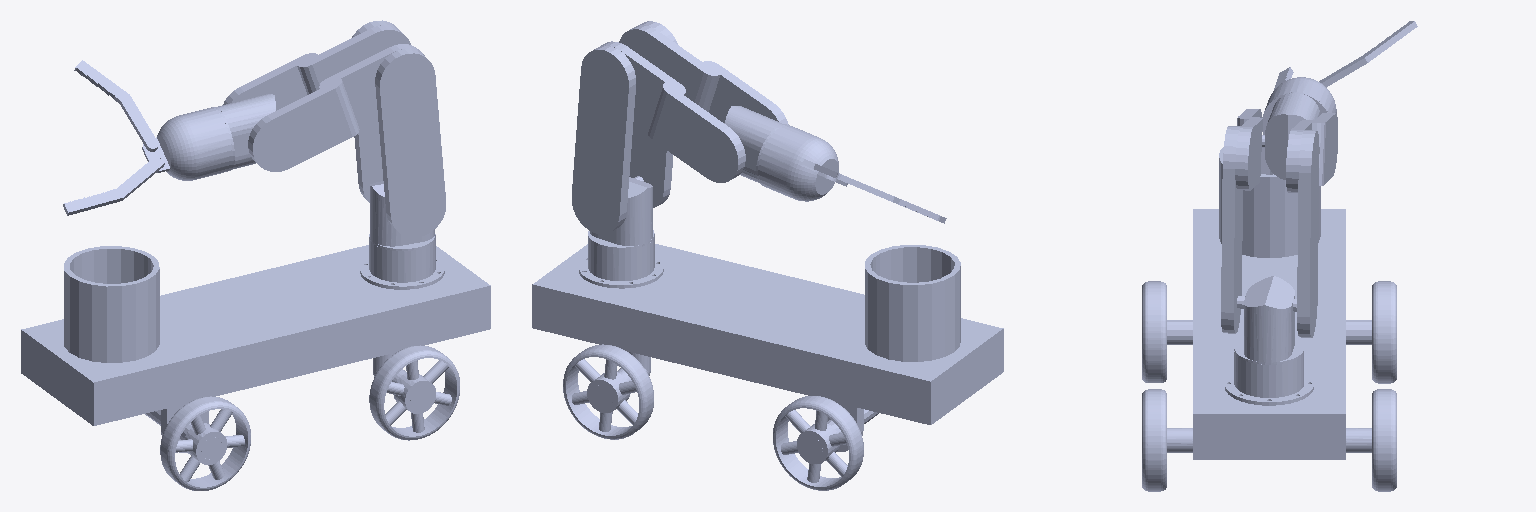
The robot description file, URDF, robot "manipulator":
<?xml version="1.0" encoding="utf-8"?>
<!-- This URDF was automatically created by SolidWorks to URDF Exporter! Originally created by [author] ([email redacted]) 
     Commit Version: 1.6.0-4-g7f85cfe  Build Version: 1.6.7995.38578
     For more information, please see http://wiki.ros.org/sw_urdf_exporter -->
<robot
  name="manipulator">
  <link name="dummy_link">
  <pose>"0 0 0 0 0 0"</pose>
  </link>
  <joint name="dummy_joint" type="fixed">
    <parent link="dummy_link" />
    <child link="base_link" />
    <origin xyz = "0 0 0" rpy= "0 0 0" />
    <axis xyz = "0 0 0" />
  </joint>
  <link
    name="base_link">
    <inertial>
      <origin
        xyz="-0.0211776996618438 -1.22728266438443E-08 0.220694894832878"
        rpy="0 0 0" />
      <mass
        value="31.440945977861" />
      <inertia
        ixx="0.303296482329575"
        ixy="-1.67101174915287E-06"
        ixz="0.0507896153372789"
        iyy="2.55073722062815"
        iyz="2.13037549899861E-08"
        izz="2.73494594645884" />
    </inertial>
    <visual>
      <origin
        xyz="0 0 0"
        rpy="0 0 0" />
      <geometry>
        <mesh
          filename="package://manipulator/meshes/base_link.STL" />
      </geometry>
      <material
        name="">
        <color
          rgba="0.792156862745098 0.819607843137255 0.933333333333333 1" />
      </material>
    </visual>
    <collision>
      <origin
        xyz="0 0 0"
        rpy="0 0 0" />
      <geometry>
        <mesh
          filename="package://manipulator/meshes/base_link.STL" />
      </geometry>
    </collision>
  </link>
  <link
    name="rear_shaft">
    <inertial>
      <origin
        xyz="-1.11022302462516E-16 0 0.254"
        rpy="0 0 0" />
      <mass
        value="1.02790122650355" />
      <inertia
        ixx="0.0222708703975125"
        ixy="1.05879118406788E-20"
        ixz="7.30648942347479E-20"
        iyy="0.0222708703975125"
        iyz="1.28838771050466E-19"
        izz="0.000331023775623048" />
    </inertial>
    <visual>
      <origin
        xyz="0 0 0"
        rpy="0 0 0" />
      <geometry>
        <mesh
          filename="package://manipulator/meshes/rear_shaft.STL" />
      </geometry>
      <material
        name="">
        <color
          rgba="0.792156862745098 0.819607843137255 0.933333333333333 1" />
      </material>
    </visual>
    <collision>
      <origin
        xyz="0 0 0"
        rpy="0 0 0" />
      <geometry>
        <mesh
          filename="package://manipulator/meshes/rear_shaft.STL" />
      </geometry>
    </collision>
  </link>
  <joint
    name="rear_shaft_joint"
    type="continuous">
    <origin
      xyz="-0.254678481031125 -0.254000153585616 0.1016"
      rpy="-1.5707963267949 0 0" />
    <parent
      link="base_link" />
    <child
      link="rear_shaft" />
    <axis
      xyz="0 0 -1" />
  </joint>
  <link
    name="rear_right_wheel">
    <inertial>
      <origin
        xyz="-8.79605066561595E-09 3.52349549537223E-09 0.0254000563127965"
        rpy="0 0 0" />
      <mass
        value="0.627305726641921" />
      <inertia
        ixx="0.00204148062072574"
        ixy="1.19734260311977E-09"
        ixz="-7.48969655149847E-11"
        iyy="0.00204147729457848"
        iyz="2.87979816380951E-11"
        izz="0.00389311509621041" />
    </inertial>
    <visual>
      <origin
        xyz="0 0 0"
        rpy="0 0 0" />
      <geometry>
        <mesh
          filename="package://manipulator/meshes/rear_right_wheel.STL" />
      </geometry>
      <material
        name="">
        <color
          rgba="0.792156862745098 0.819607843137255 0.933333333333333 1" />
      </material>
    </visual>
    <collision>
      <origin
        xyz="0 0 0"
        rpy="0 0 0" />
      <geometry>
        <mesh
          filename="package://manipulator/meshes/rear_right_wheel.STL" />
      </geometry>
    </collision>
  </link>
  <joint
    name="rear_right_wheel_joint"
    type="continuous">
    <origin
      xyz="0 0 0"
      rpy="0 0 0" />
    <parent
      link="rear_shaft" />
    <child
      link="rear_right_wheel" />
    <axis
      xyz="0 0 -1" />
  </joint>
  <link
    name="rear_left_wheel">
    <inertial>
      <origin
        xyz="-9.37474553541762E-09 1.37828781721083E-09 -0.0253999436872031"
        rpy="0 0 0" />
      <mass
        value="0.627305726641925" />
      <inertia
        ixx="0.00204147989803352"
        ixy="1.82074875298365E-09"
        ixz="-7.95440770898799E-11"
        iyy="0.00204147801727073"
        iyz="1.05649829318396E-11"
        izz="0.00389311509621043" />
    </inertial>
    <visual>
      <origin
        xyz="0 0 0"
        rpy="0 0 0" />
      <geometry>
        <mesh
          filename="package://manipulator/meshes/rear_left_wheel.STL" />
      </geometry>
      <material
        name="">
        <color
          rgba="0.792156862745098 0.819607843137255 0.933333333333333 1" />
      </material>
    </visual>
    <collision>
      <origin
        xyz="0 0 0"
        rpy="0 0 0" />
      <geometry>
        <mesh
          filename="package://manipulator/meshes/rear_left_wheel.STL" />
      </geometry>
    </collision>
  </link>
  <joint
    name="rear_left_wheel_joint"
    type="fixed">
    <origin
      xyz="0 0 0.508"
      rpy="0 0 0" />
    <parent
      link="rear_shaft" />
    <child
      link="rear_left_wheel" />
    <axis
      xyz="0 0 -1" />
  </joint>
  <link
    name="front_right_shaft">
    <inertial>
      <origin
        xyz="-0.0431205113179054 5.17185116954977E-09 0.0239485321305914"
        rpy="0 0 0" />
      <mass
        value="0.535359913631541" />
      <inertia
        ixx="0.000836353410948497"
        ixy="-6.15885540479402E-10"
        ixz="-0.000555136856499355"
        iyy="0.00217714694801786"
        iyz="-5.81341875436344E-10"
        izz="0.00151373754697996" />
    </inertial>
    <visual>
      <origin
        xyz="0 0 0"
        rpy="0 0 0" />
      <geometry>
        <mesh
          filename="package://manipulator/meshes/front_right_shaft.STL" />
      </geometry>
      <material
        name="">
        <color
          rgba="0.792156862745098 0.819607843137255 0.933333333333333 1" />
      </material>
    </visual>
    <collision>
      <origin
        xyz="0 0 0"
        rpy="0 0 0" />
      <geometry>
        <mesh
          filename="package://manipulator/meshes/front_right_shaft.STL" />
      </geometry>
    </collision>
  </link>
  <joint
    name="front_right_shaft_joint"
    type="continuous">
    <origin
      xyz="0.253321518968875 -0.101600153585616 0.1016"
      rpy="0 0 1.5707963267949" />
    <parent
      link="base_link" />
    <child
      link="front_right_shaft" />
    <axis
      xyz="0 0 1" />
  </joint>
  <link
    name="front_right_wheel">
    <inertial>
      <origin
        xyz="-9.41724098701968E-09 3.76971070560339E-05 0.0254000563127964"
        rpy="0 0 0" />
      <mass
        value="0.627305726641923" />
      <inertia
        ixx="0.00204147976835884"
        ixy="1.88207273872621E-09"
        ixz="-7.98651082560103E-11"
        iyy="0.00204147814694538"
        iyz="7.77454306124795E-12"
        izz="0.00389311509621041" />
    </inertial>
    <visual>
      <origin
        xyz="0 0 0"
        rpy="0 0 0" />
      <geometry>
        <mesh
          filename="package://manipulator/meshes/front_right_wheel.STL" />
      </geometry>
      <material
        name="">
        <color
          rgba="0.792156862745098 0.819607843137255 0.933333333333333 1" />
      </material>
    </visual>
    <collision>
      <origin
        xyz="0 0 0"
        rpy="0 0 0" />
      <geometry>
        <mesh
          filename="package://manipulator/meshes/front_right_wheel.STL" />
      </geometry>
    </collision>
  </link>
  <joint
    name="front_right_wheel_joint"
    type="fixed">
    <origin
      xyz="-0.1524 0 -3.76960577197494E-05"
      rpy="-1.5707963267949 0 -1.5707963267949" />
    <parent
      link="front_right_shaft" />
    <child
      link="front_right_wheel" />
    <axis
      xyz="0 1 0" />
  </joint>
  <link
    name="front_left_shaft">
    <inertial>
      <origin
        xyz="0.0431205113179056 -5.17185116954977E-09 0.0239485321305912"
        rpy="0 0 0" />
      <mass
        value="0.53535991363154" />
      <inertia
        ixx="0.000836353410948491"
        ixy="-6.15885539623722E-10"
        ixz="0.000555136856499352"
        iyy="0.00217714694801786"
        iyz="5.81341875066337E-10"
        izz="0.00151373754697996" />
    </inertial>
    <visual>
      <origin
        xyz="0 0 0"
        rpy="0 0 0" />
      <geometry>
        <mesh
          filename="package://manipulator/meshes/front_left_shaft.STL" />
      </geometry>
      <material
        name="">
        <color
          rgba="0.792156862745098 0.819607843137255 0.933333333333333 1" />
      </material>
    </visual>
    <collision>
      <origin
        xyz="0 0 0"
        rpy="0 0 0" />
      <geometry>
        <mesh
          filename="package://manipulator/meshes/front_left_shaft.STL" />
      </geometry>
    </collision>
  </link>
  <joint
    name="front_left_shaft_joint"
    type="continuous">
    <origin
      xyz="0.253321518968875 0.101599846414384 0.1016"
      rpy="0 0 1.5707963267949" />
    <parent
      link="base_link" />
    <child
      link="front_left_shaft" />
    <axis
      xyz="0 0 1" />
  </joint>
  <link
    name="front_left_wheel">
    <inertial>
      <origin
        xyz="-9.41724054293047E-09 3.76971070559229E-05 -0.0253999436872032"
        rpy="0 0 0" />
      <mass
        value="0.627305726641925" />
      <inertia
        ixx="0.00204147976835886"
        ixy="1.88207274048894E-09"
        ixz="-7.98651083867113E-11"
        iyy="0.00204147814694539"
        iyz="7.77454374069249E-12"
        izz="0.00389311509621043" />
    </inertial>
    <visual>
      <origin
        xyz="0 0 0"
        rpy="0 0 0" />
      <geometry>
        <mesh
          filename="package://manipulator/meshes/front_left_wheel.STL" />
      </geometry>
      <material
        name="">
        <color
          rgba="0.792156862745098 0.819607843137255 0.933333333333333 1" />
      </material>
    </visual>
    <collision>
      <origin
        xyz="0 0 0"
        rpy="0 0 0" />
      <geometry>
        <mesh
          filename="package://manipulator/meshes/front_left_wheel.STL" />
      </geometry>
    </collision>
  </link>
  <joint
    name="front_left_wheel_joint"
    type="fixed">
    <origin
      xyz="0.1524 0 -3.76960577197494E-05"
      rpy="-1.5707963267949 0 -1.5707963267949" />
    <parent
      link="front_left_shaft" />
    <child
      link="front_left_wheel" />
    <axis
      xyz="-1 0 0" />
  </joint>
  <link
    name="manipulator_base">
    <inertial>
      <origin
        xyz="1.20570220474292E-13 4.77395900588817E-14 0.0221577186195164"
        rpy="0 0 0" />
      <mass
        value="0.343652649470195" />
      <inertia
        ixx="0.000931840317732508"
        ixy="-3.93117586115653E-19"
        ixz="2.41532900673122E-18"
        iyy="0.000931840317732507"
        iyz="8.20324158237791E-18"
        izz="0.00144684523805802" />
    </inertial>
    <visual>
      <origin
        xyz="0 0 0"
        rpy="0 0 0" />
      <geometry>
        <mesh
          filename="package://manipulator/meshes/manipulator_base.STL" />
      </geometry>
      <material
        name="">
        <color
          rgba="0.792156862745098 0.819607843137255 0.933333333333333 1" />
      </material>
    </visual>
    <collision>
      <origin
        xyz="0 0 0"
        rpy="0 0 0" />
      <geometry>
        <mesh
          filename="package://manipulator/meshes/manipulator_base.STL" />
      </geometry>
    </collision>
  </link>
  <joint
    name="manipulator_base_joint"
    type="fixed">
    <origin
      xyz="0.354921518968873 -0.00035241085596216 0.2667"
      rpy="0 0 1.5707963267949" />
    <parent
      link="base_link" />
    <child
      link="manipulator_base" />
    <axis
      xyz="0 0 0" />
  </joint>
  <link
    name="link1">
    <inertial>
      <origin
        xyz="-0.00476743254742651 0 0.0577748363838581"
        rpy="0 0 0" />
      <mass
        value="1.48027865388571" />
      <inertia
        ixx="0.00299692664042462"
        ixy="-2.23569703188312E-09"
        ixz="1.3154618503852E-06"
        iyy="0.00394348618991032"
        iyz="-1.84484036222152E-10"
        izz="0.00298109357001247" />
    </inertial>
    <visual>
      <origin
        xyz="0 0 0"
        rpy="0 0 0" />
      <geometry>
        <mesh
          filename="package://manipulator/meshes/link1.STL" />
      </geometry>
      <material
        name="">
        <color
          rgba="0.792156862745098 0.819607843137255 0.933333333333333 1" />
      </material>
    </visual>
    <collision>
      <origin
        xyz="0 0 0"
        rpy="0 0 0" />
      <geometry>
        <mesh
          filename="package://manipulator/meshes/link1.STL" />
      </geometry>
    </collision>
  </link>
  <joint
    name="link1_joint"
    type="continuous">
    <origin
      xyz="0 0 0.083058"
      rpy="0 0.0823309272452037 1.4401673322326" />
    <parent
      link="manipulator_base" />
    <child
      link="link1" />
    <axis
      xyz="-0.082237947023427 0 0.996612723212669" />
  </joint>
  <link
    name="link2">
    <inertial>
      <origin
        xyz="-4.69402294811516E-13 0.152399999999151 -0.0889000000000042"
        rpy="0 0 0" />
      <mass
        value="2.62571951129597" />
      <inertia
        ixx="0.0366190533392522"
        ixy="4.47233396150271E-18"
        ixz="-1.73472347597681E-18"
        iyy="0.00343981383550577"
        iyz="5.57008866114428E-18"
        izz="0.0397646852785769" />
    </inertial>
    <visual>
      <origin
        xyz="0 0 0"
        rpy="0 0 0" />
      <geometry>
        <mesh
          filename="package://manipulator/meshes/link2.STL" />
      </geometry>
      <material
        name="">
        <color
          rgba="0.792156862745098 0.819607843137255 0.933333333333333 1" />
      </material>
    </visual>
    <collision>
      <origin
        xyz="0 0 0"
        rpy="0 0 0" />
      <geometry>
        <mesh
          filename="package://manipulator/meshes/link2.STL" />
      </geometry>
    </collision>
  </link>
  <joint
    name="link2_joint"
    type="revolute">
    <origin
      xyz="-0.0081465 -0.0889 0.098724"
      rpy="1.5708 0 0" />
    <parent
      link="link1" />
    <child
      link="link2" />
    <axis
      xyz="0 0 -1" />
    <limit
      lower="1.86"
      upper="-2.18"
      effort="10"
      velocity="1000" />
  </joint>
  <link
    name="link3">
    <inertial>
      <origin
        xyz="0.148003295006309 -0.0357219733124967 -0.0889000000000043"
        rpy="0 0 0" />
      <mass
        value="2.88590691059082" />
      <inertia
        ixx="0.00605684364244081"
        ixy="0.00751256389339986"
        ixz="-2.22261445359528E-17"
        iyy="0.035369674312202"
        iyz="2.81892564846231E-18"
        izz="0.0402180502620228" />
    </inertial>
    <visual>
      <origin
        xyz="0 0 0"
        rpy="0 0 0" />
      <geometry>
        <mesh
          filename="package://manipulator/meshes/link3.STL" />
      </geometry>
      <material
        name="">
        <color
          rgba="0.792156862745098 0.819607843137255 0.933333333333333 1" />
      </material>
    </visual>
    <collision>
      <origin
        xyz="0 0 0"
        rpy="0 0 0" />
      <geometry>
        <mesh
          filename="package://manipulator/meshes/link3.STL" />
      </geometry>
    </collision>
  </link>
  <joint
    name="link3_joint"
    type="revolute">
    <origin
      xyz="0 0.3048 0"
      rpy="0 0 0" />
    <parent
      link="link2" />
    <child
      link="link3" />
    <axis
      xyz="0 0 1" />
    <limit
      lower="3.14"
      upper="-0.14"
      effort="10"
      velocity="1000" />
  </joint>
  <link
    name="link4">
    <inertial>
      <origin
        xyz="0.0410887868371235 2.8121622031696E-05 -0.0888999860575093"
        rpy="0 0 0" />
      <mass
        value="1.48027855179196" />
      <inertia
        ixx="0.00298098362629461"
        ixy="-1.09936009905687E-08"
        ixz="8.33647750494732E-10"
        iyy="0.0029970335065252"
        iyz="2.33216838036414E-09"
        izz="0.00394348692572763" />
    </inertial>
    <visual>
      <origin
        xyz="0 0 0"
        rpy="0 0 0" />
      <geometry>
        <mesh
          filename="package://manipulator/meshes/link4.STL" />
      </geometry>
      <material
        name="">
        <color
          rgba="0.792156862745098 0.819607843137255 0.933333333333333 1" />
      </material>
    </visual>
    <collision>
      <origin
        xyz="0 0 0"
        rpy="0 0 0" />
      <geometry>
        <mesh
          filename="package://manipulator/meshes/link4.STL" />
      </geometry>
    </collision>
  </link>
  <joint
    name="link4_joint"
    type="revolute">
    <origin
      xyz="0.29629 -0.071513 0"
      rpy="0 0 0" />
    <parent
      link="link3" />
    <child
      link="link4" />
    <axis
      xyz="0 0 -1" />
    <limit
      lower="2.35"
      upper="-1.77"
      effort="10"
      velocity="1000" />
  </joint>
  <link
    name="gripper">
    <inertial>
      <origin
        xyz="-0.00381509857258 0.0733141735781111 -2.73245616080331E-05"
        rpy="0 0 0" />
      <mass
        value="0.318053344407251" />
      <inertia
        ixx="0.00117130768739902"
        ixy="8.77342735524937E-07"
        ixz="-3.30840192944662E-10"
        iyy="0.00116301084919414"
        iyz="-1.13226117227878E-09"
        izz="0.0011600211189812" />
    </inertial>
    <visual>
      <origin
        xyz="0 0 0"
        rpy="0 0 0" />
      <geometry>
        <mesh
          filename="package://manipulator/meshes/gripper.STL" />
      </geometry>
      <material
        name="">
        <color
          rgba="0.792156862745098 0.819607843137255 0.933333333333333 1" />
      </material>
    </visual>
    <collision>
      <origin
        xyz="0 0 0"
        rpy="0 0 0" />
      <geometry>
        <mesh
          filename="package://manipulator/meshes/gripper.STL" />
      </geometry>
    </collision>
  </link>
  <joint
    name="gripper_joint"
    type="continuous">
    <origin
      xyz="0.248853265309693 0.00336707133293568 -0.0909728912537893"
      rpy="0 0.575281631239788 1.5707963267949" />
    <parent
      link="link4" />
    <child
      link="gripper" />
    <axis
      xyz="0.0005742505150447 -0.999999765788382 0.000372370147822085" />
  </joint>
  <link
    name="gripper_left">
    <inertial>
      <origin
        xyz="0.0394810399510597 -0.109811498641309 -0.00634999999984642"
        rpy="0 0 0" />
      <mass
        value="0.0811562982935577" />
      <inertia
        ixx="0.000402419693683614"
        ixy="9.97016527628495E-05"
        ixz="-1.35525271560688E-20"
        iyy="3.5590631452345E-05"
        iyz="-1.56701095242046E-19"
        izz="0.000435828708577331" />
    </inertial>
    <visual>
      <origin
        xyz="0 0 0"
        rpy="0 0 0" />
      <geometry>
        <mesh
          filename="package://manipulator/meshes/gripper_left.STL" />
      </geometry>
      <material
        name="">
        <color
          rgba="0.792156862745098 0.819607843137255 0.933333333333333 1" />
      </material>
    </visual>
    <collision>
      <origin
        xyz="0 0 0"
        rpy="0 0 0" />
      <geometry>
        <mesh
          filename="package://manipulator/meshes/gripper_left.STL" />
      </geometry>
    </collision>
  </link>
  <joint
    name="gripper_left_joint"
    type="revolute">
    <origin
      xyz="0.0127004769785455 -0.000826963988762031 -0.0208624359755367"
      rpy="-1.57079632680667 1.57042395663749 -1.57022207621871" />
    <parent
      link="gripper" />
    <child
      link="gripper_left" />
    <axis
      xyz="0 0 -1" />
      <limit
      lower="0.45"
      upper="-1.15"
      effort="10"
      velocity="1000" />
  </joint>
  <link
    name="gripper_right">
    <inertial>
      <origin
        xyz="0.11399724572148 0.0249388395349214 -0.0063499999999107"
        rpy="0 0 0" />
      <mass
        value="0.0811562982935572" />
      <inertia
        ixx="4.94791777175608E-05"
        ixy="-0.000121828774304379"
        ixz="2.10868852218958E-18"
        iyy="0.000388531147418396"
        iyz="6.03087458445062E-19"
        izz="0.000435828708577328" />
    </inertial>
    <visual>
      <origin
        xyz="0 0 0"
        rpy="0 0 0" />
      <geometry>
        <mesh
          filename="package://manipulator/meshes/gripper_right.STL" />
      </geometry>
      <material
        name="">
        <color
          rgba="0.792156862745098 0.819607843137255 0.933333333333333 1" />
      </material>
    </visual>
    <collision>
      <origin
        xyz="0 0 0"
        rpy="0 0 0" />
      <geometry>
        <mesh
          filename="package://manipulator/meshes/gripper_right.STL" />
      </geometry>
    </collision>
  </link>
  <joint
    name="gripper_right_joint"
    type="revolute">
    <origin
      xyz="0.012700468056301 -0.00081142668143086 0.0208630053929066"
      rpy="1.57079632680667 -1.57042395663749 1.57137057737108" />
    <parent
      link="gripper" />
    <child
      link="gripper_right" />
    <axis
      xyz="0 0 -1" />
      <limit
      lower="0.15"
      upper="-1.39"
      effort="10"
      velocity="1000" />
  </joint>
</robot>

--- What the picture shows (computed from the rendered views, not written in the file) ---
Views: 3 orthographic renders of the robot side by side, from view 1: azimuth 30°, elevation 25°; view 2: azimuth 150°, elevation 25°; view 3: azimuth 270°, elevation 25°.
Model manipulator with 17 links and 16 joints (5 revolute, 6 continuous, 5 fixed), rooted at dummy_link, posed every joint at zero.
Visible links, largest first — view 1: base_link, link3, link2, rear_right_wheel, front_right_wheel, gripper, manipulator_base, link4, link1, gripper_right, gripper_left, front_right_shaft (+1 smaller); view 2: base_link, link3, link2, rear_left_wheel, front_left_wheel, gripper, manipulator_base, link1, link4, gripper_left, front_left_shaft, rear_shaft; view 3: base_link, link2, link1, link3, manipulator_base, link4, front_right_wheel, front_left_wheel, rear_left_wheel, rear_right_wheel, rear_shaft, gripper (+3 smaller).
Link boxes in pixels (x1=…): base_link: x1=21, y1=245, x2=490, y2=452; link3: x1=223, y1=25, x2=424, y2=171; link2: x1=352, y1=20, x2=445, y2=237; rear_right_wheel: x1=160, y1=396, x2=250, y2=490; front_right_wheel: x1=369, y1=345, x2=459, y2=440; gripper: x1=142, y1=107, x2=232, y2=180; manipulator_base: x1=360, y1=238, x2=444, y2=289; link4: x1=214, y1=94, x2=275, y2=170; link1: x1=369, y1=181, x2=435, y2=250; gripper_right: x1=74, y1=60, x2=158, y2=151; gripper_left: x1=63, y1=155, x2=165, y2=215; front_right_shaft: x1=373, y1=352, x2=430, y2=408; base_link: x1=532, y1=244, x2=1003, y2=451; link3: x1=601, y1=25, x2=788, y2=182; link2: x1=572, y1=21, x2=677, y2=234; rear_left_wheel: x1=773, y1=396, x2=863, y2=490; front_left_wheel: x1=563, y1=344, x2=653, y2=439; gripper: x1=758, y1=125, x2=847, y2=201; manipulator_base: x1=579, y1=236, x2=663, y2=288; link1: x1=588, y1=177, x2=654, y2=249; link4: x1=724, y1=106, x2=786, y2=185; gripper_left: x1=836, y1=173, x2=946, y2=223; front_left_shaft: x1=592, y1=352, x2=650, y2=407; rear_shaft: x1=802, y1=409, x2=878, y2=458; base_link: x1=1193, y1=147, x2=1345, y2=459; link2: x1=1221, y1=126, x2=1319, y2=337; link1: x1=1234, y1=276, x2=1303, y2=364; link3: x1=1235, y1=109, x2=1337, y2=192; manipulator_base: x1=1225, y1=351, x2=1313, y2=405; link4: x1=1262, y1=92, x2=1327, y2=179; front_right_wheel: x1=1142, y1=389, x2=1166, y2=491; front_left_wheel: x1=1372, y1=389, x2=1396, y2=491; rear_left_wheel: x1=1372, y1=281, x2=1396, y2=383; rear_right_wheel: x1=1142, y1=281, x2=1166, y2=382; rear_shaft: x1=1167, y1=320, x2=1371, y2=344; gripper: x1=1265, y1=77, x2=1336, y2=113.
Bounding box of the posed robot: 0.9652 × 0.5493 × 0.8161 m (x, y, z).
16 mesh visuals loaded from 16 distinct referenced files (16 binary STL).